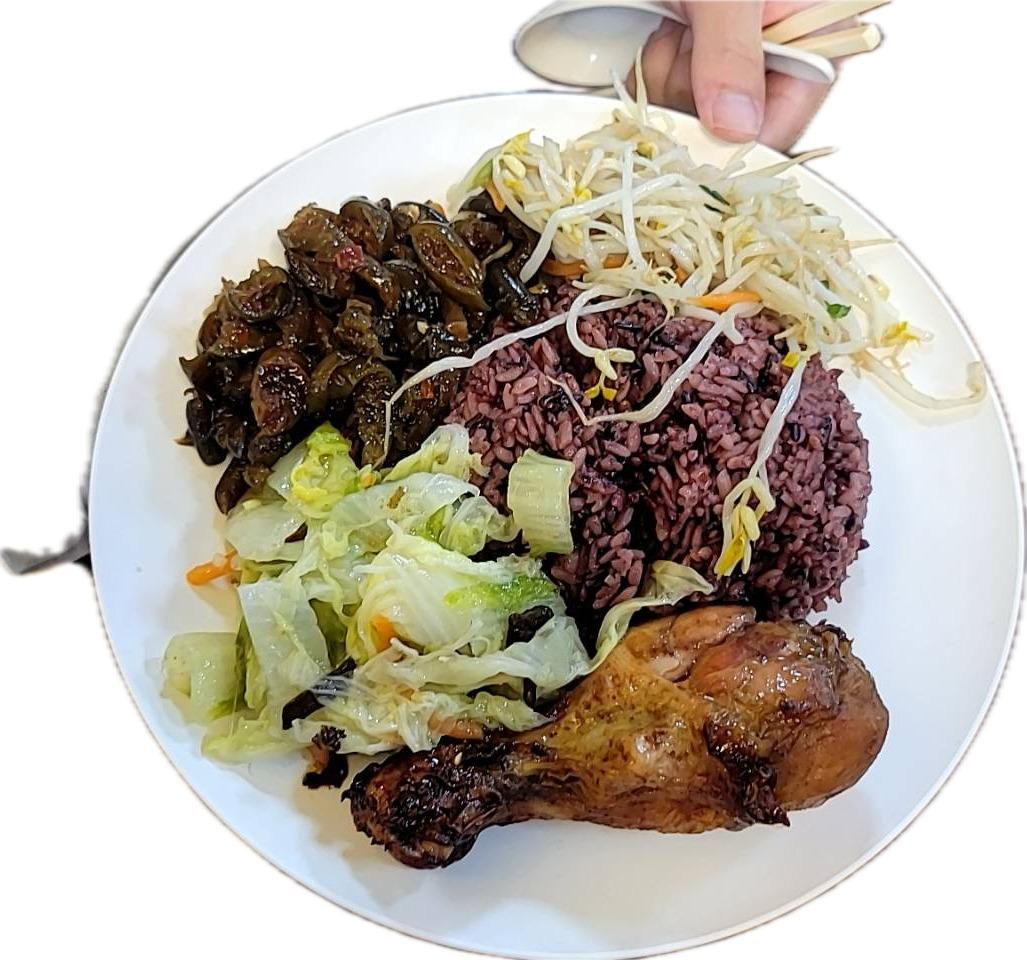big fried chicken leg: (86, 86, 1027, 960)
braised fish: (456, 284, 883, 621)
braised fish fillet: (157, 424, 584, 771), (460, 98, 907, 365), (182, 200, 534, 503)
braised pork: (337, 604, 894, 874)
